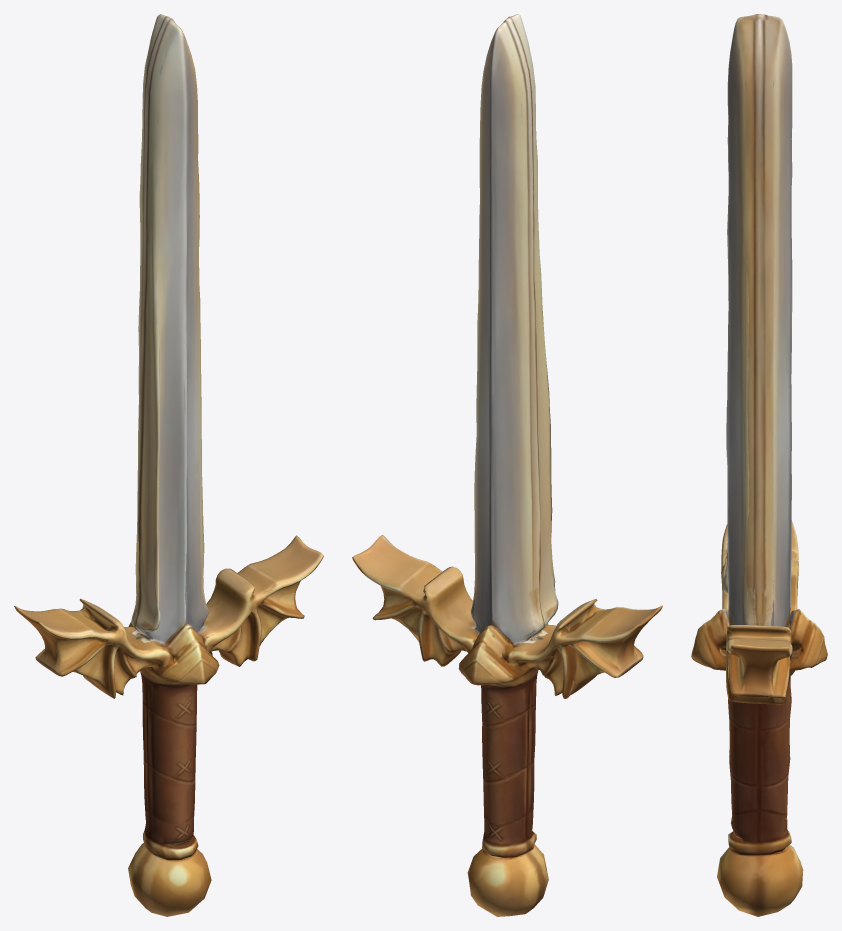
File: schwert.glb
3 renders of one model, left to right at view 1: azimuth 30°, elevation 25°; view 2: azimuth 150°, elevation 25°; view 3: azimuth 270°, elevation 25°, orthographic.
Visible parts, largest first — view 1: tripo_node_0223e710-1618-4dae-8d78-5df4c6ad78c6; view 2: tripo_node_0223e710-1618-4dae-8d78-5df4c6ad78c6; view 3: tripo_node_0223e710-1618-4dae-8d78-5df4c6ad78c6.
Part boxes in pixels (x1,y1,x2,y2): tripo_node_0223e710-1618-4dae-8d78-5df4c6ad78c6: (14,14,323,916); tripo_node_0223e710-1618-4dae-8d78-5df4c6ad78c6: (352,14,662,916); tripo_node_0223e710-1618-4dae-8d78-5df4c6ad78c6: (691,14,827,916).
Size of the model in its own units: 0.3247 by 0.9757 by 0.1347.
Materials: 1 (1 with a texture image).
